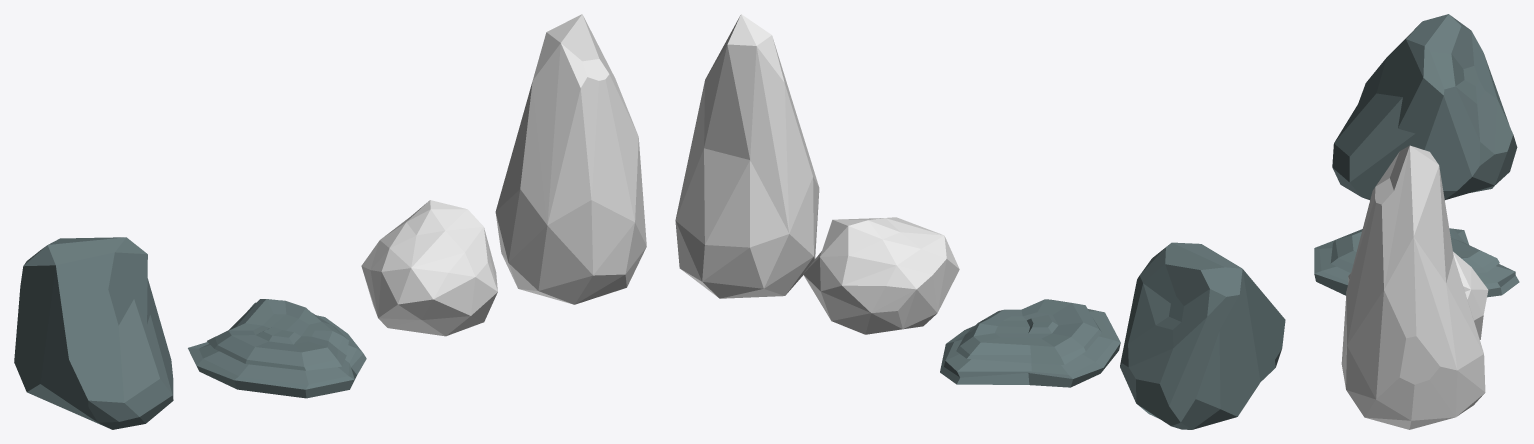
The model's file is Stones.fbx.
The picture shows the model from 3 angles, left to right: view 1: azimuth 30°, elevation 25°; view 2: azimuth 150°, elevation 25°; view 3: azimuth 270°, elevation 25°; orthographic projection. The views are drawn at different scales.
Parts seen in each view (by area): view 1: Stone.003, Stone, Stone.002, Stone.001; view 2: Stone.003, Stone, Stone.002, Stone.001; view 3: Stone.003, Stone, Stone.001, Stone.002.
Boxes of the visible parts, <box> form: Stone.003: <box>495,14,646,304</box>; Stone: <box>14,237,173,429</box>; Stone.002: <box>361,200,497,336</box>; Stone.001: <box>188,299,366,398</box>; Stone.003: <box>675,14,819,298</box>; Stone: <box>1120,242,1285,429</box>; Stone.002: <box>803,217,959,334</box>; Stone.001: <box>940,299,1120,387</box>; Stone.003: <box>1341,145,1485,429</box>; Stone: <box>1332,14,1517,199</box>; Stone.001: <box>1314,228,1519,297</box>; Stone.002: <box>1348,251,1488,339</box>.
Size of the model in its own units: 9.05 by 4.06 by 2.73.
